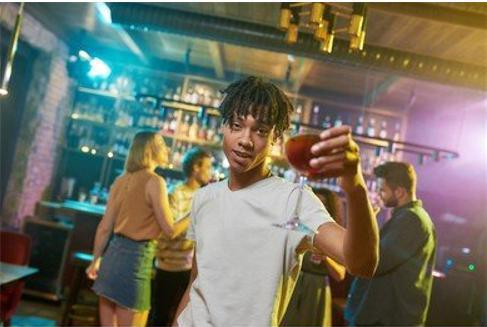Drunk: (222, 109, 268, 173)
